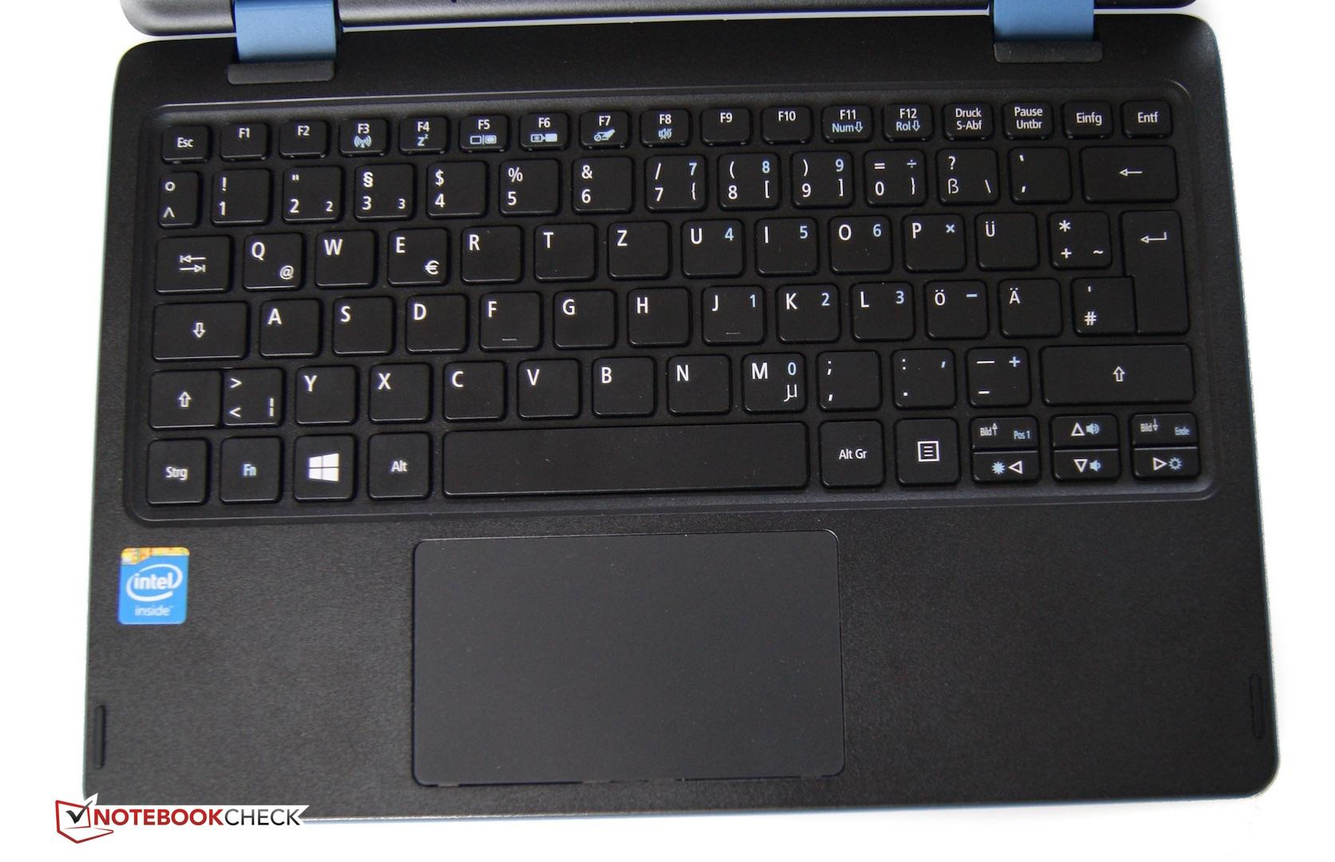0: (863, 148, 927, 206)
1: (208, 168, 271, 225)
2: (280, 164, 343, 223)
3: (351, 161, 415, 220)
4: (423, 158, 487, 218)
5: (496, 157, 561, 216)
6: (568, 155, 634, 213)
7: (644, 153, 707, 212)
8: (716, 151, 781, 210)
9: (790, 149, 854, 208)
a: (256, 297, 321, 358)
accent: (1007, 144, 1072, 204)
ae: (996, 276, 1064, 338)
alt-left: (365, 431, 432, 500)
altgr-right: (818, 418, 885, 488)
b: (588, 354, 656, 417)
c: (439, 358, 507, 422)
caret: (155, 172, 199, 227)
comma: (814, 347, 881, 412)
d: (403, 292, 467, 354)
del: (1078, 144, 1179, 203)
e: (385, 226, 450, 287)
enter: (1119, 208, 1190, 336)
f: (477, 290, 542, 351)
g: (549, 288, 616, 349)
h: (624, 285, 691, 347)
hash: (1070, 274, 1135, 336)
i: (754, 215, 820, 275)
j: (699, 283, 765, 345)
k: (774, 281, 840, 343)
keyboard: (124, 88, 1221, 525)
l: (849, 279, 915, 342)
less: (221, 365, 283, 427)
m: (739, 351, 807, 414)
minus: (963, 345, 1032, 409)
n: (664, 353, 732, 417)
o: (826, 213, 893, 274)
oe: (922, 278, 988, 340)
p: (900, 211, 967, 272)
plus: (1046, 208, 1111, 270)
point: (888, 346, 957, 410)
q: (240, 231, 304, 291)
r: (458, 223, 523, 283)
s: (330, 295, 394, 355)
shift-left: (147, 369, 219, 429)
shift-lock: (150, 301, 248, 361)
shift-right: (1039, 341, 1195, 405)
space: (438, 421, 810, 496)
ss: (934, 145, 1000, 205)
strg-left: (142, 437, 210, 507)
t: (531, 221, 596, 281)
tab: (152, 234, 232, 294)
u: (678, 216, 745, 279)
ue: (973, 210, 1039, 271)
v: (515, 356, 581, 419)
w: (312, 228, 375, 288)
x: (366, 361, 431, 423)
y: (292, 363, 358, 426)
z: (605, 218, 670, 279)
